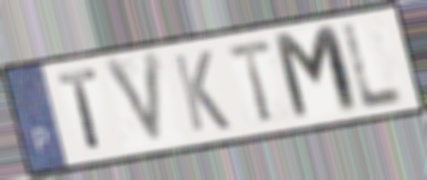K: (170, 48, 234, 135)
L: (340, 20, 409, 113)
M: (269, 21, 364, 125)
T: (225, 36, 276, 126), (54, 66, 104, 154)
V: (100, 47, 169, 151)
